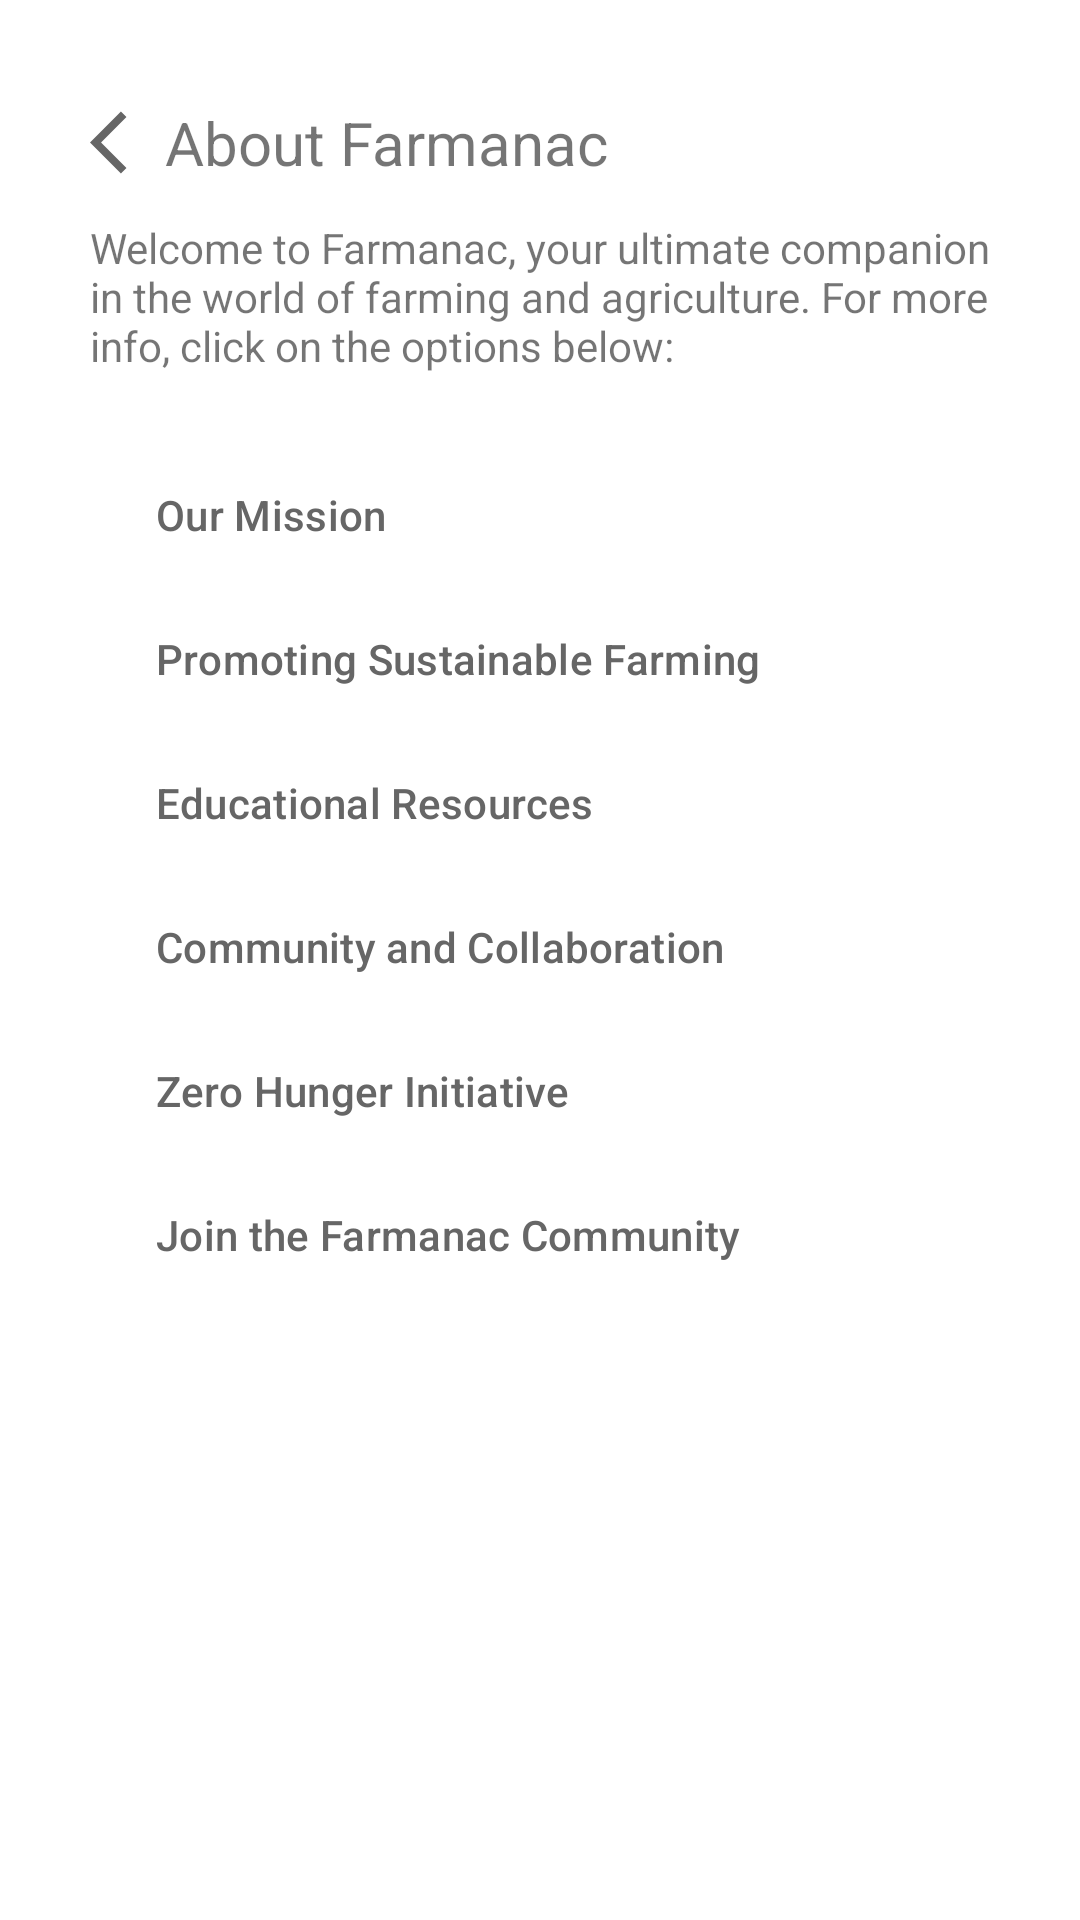

Where icons sit on this 1080×1920 app screen, as (x1, y1, x2, y2):
back arrow: (90, 112, 126, 174)
